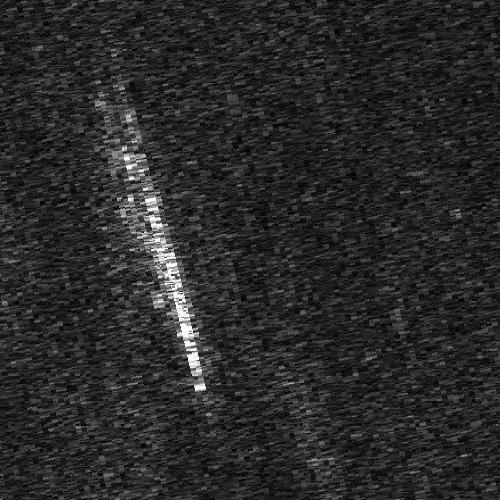ship: (122, 109, 206, 394)
